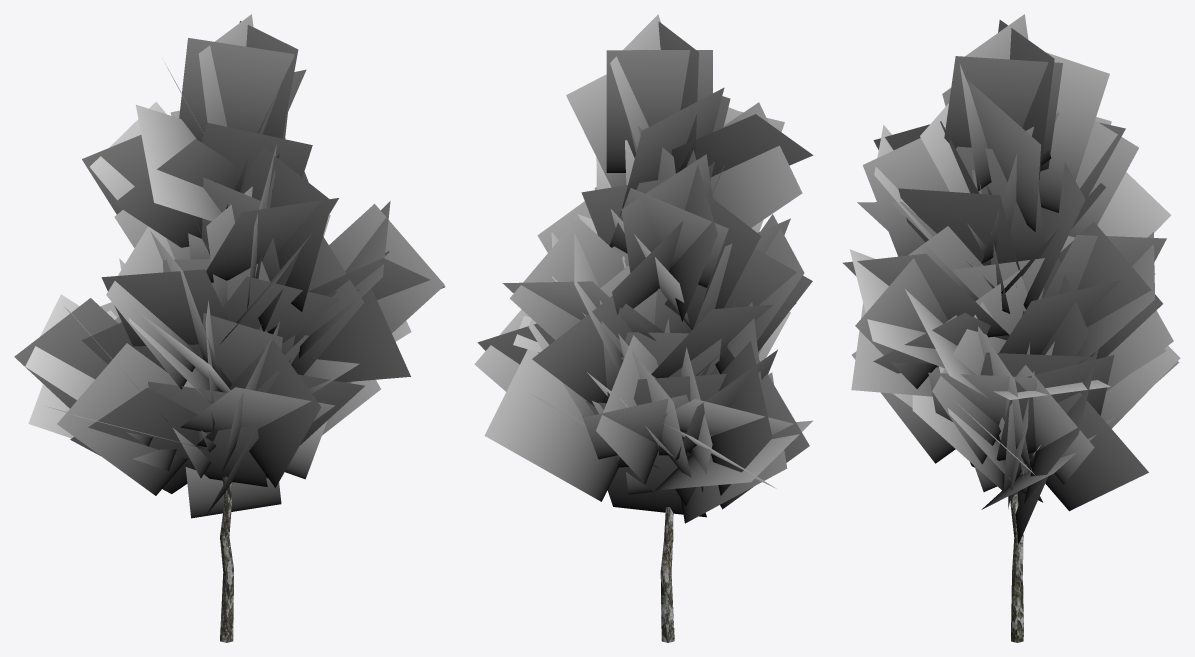
Rendered from tree16C.fbx.
3 views of the same model, side by side, from view 1: azimuth 30°, elevation 25°; view 2: azimuth 150°, elevation 25°; view 3: azimuth 270°, elevation 25° (orthographic).
Visible parts, largest first — view 1: tree16C_trunk; view 2: tree16C_trunk; view 3: tree16C_trunk.
Boxes of the visible parts, bbox=[...] form: tree16C_trunk: bbox=[14, 14, 445, 642]; tree16C_trunk: bbox=[474, 14, 813, 642]; tree16C_trunk: bbox=[842, 14, 1180, 642].
Bounding box in the file's own units: 1.83 × 3.2 × 1.61.
